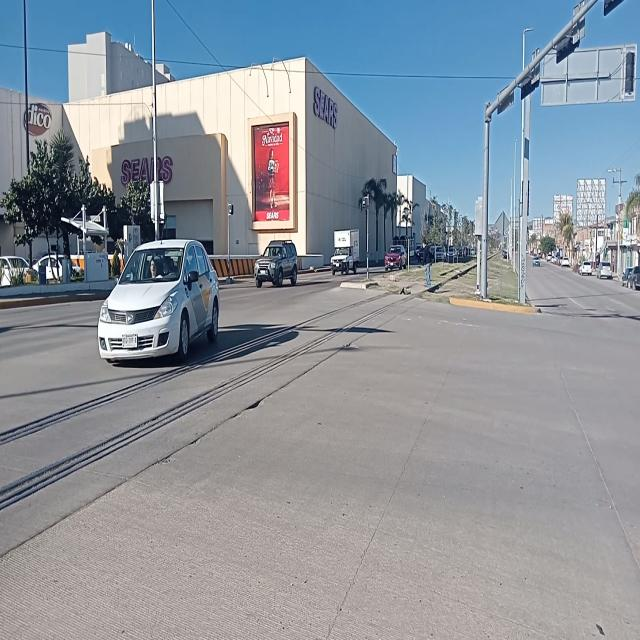Auto: (96, 237, 221, 363), (253, 239, 297, 288)
